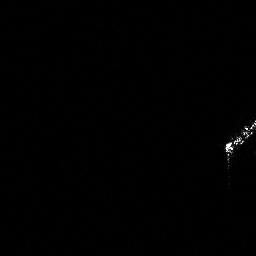ship: (220, 116, 256, 157)
